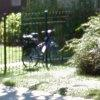Bicycle: (19, 30, 64, 71)
